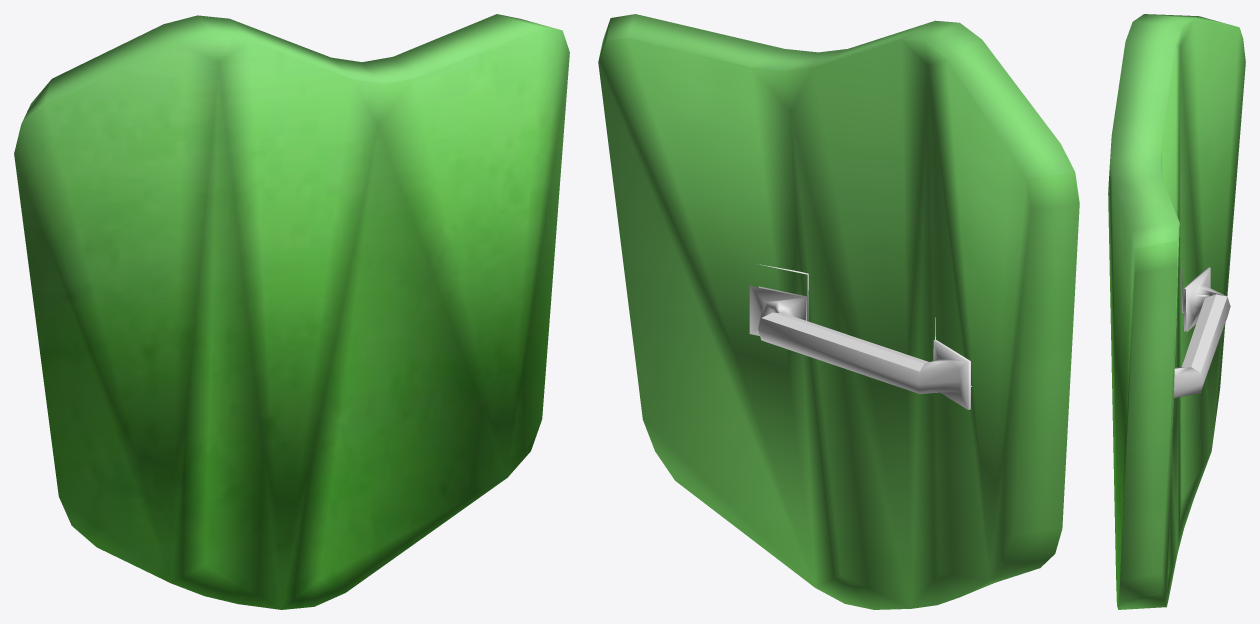
The model's file is Deku_shield.fbx.
The picture shows the model from 3 angles, left to right: view 1: azimuth 30°, elevation 25°; view 2: azimuth 150°, elevation 25°; view 3: azimuth 270°, elevation 25°; orthographic projection. The views are drawn at different scales.
Parts seen in each view (by area): view 1: Plane; view 2: Plane, Plane.001; view 3: Plane, Plane.001.
Boxes of the visible parts, x1,y1,x2,y2 form: Plane: (14,14,569,609); Plane: (598,14,1079,609); Plane.001: (749,285,970,409); Plane: (1108,14,1245,609); Plane.001: (1173,267,1230,397).
Size of the model in its own units: 452 by 491 by 114.
